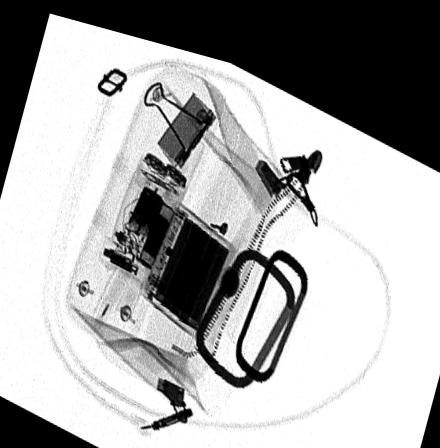Powerbank: (138, 190, 236, 329)
